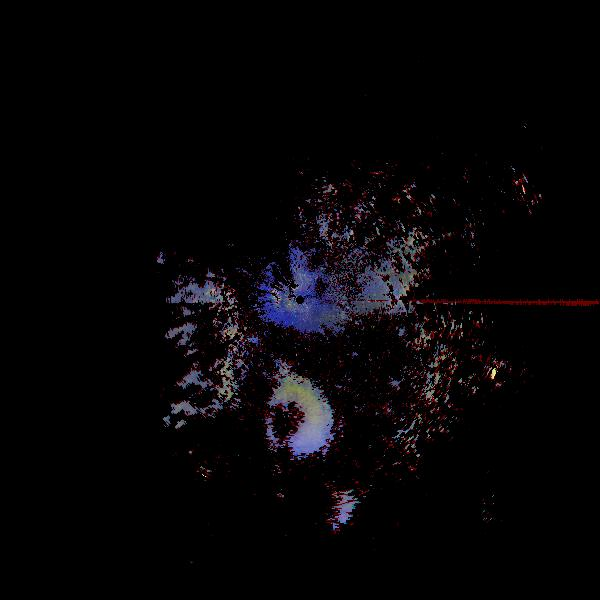roost: (260, 388, 326, 454)
